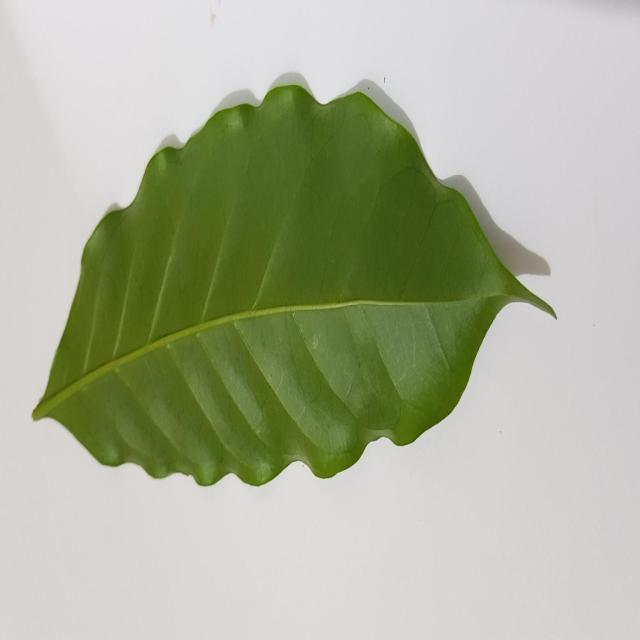Sanas: (30, 78, 556, 489)
